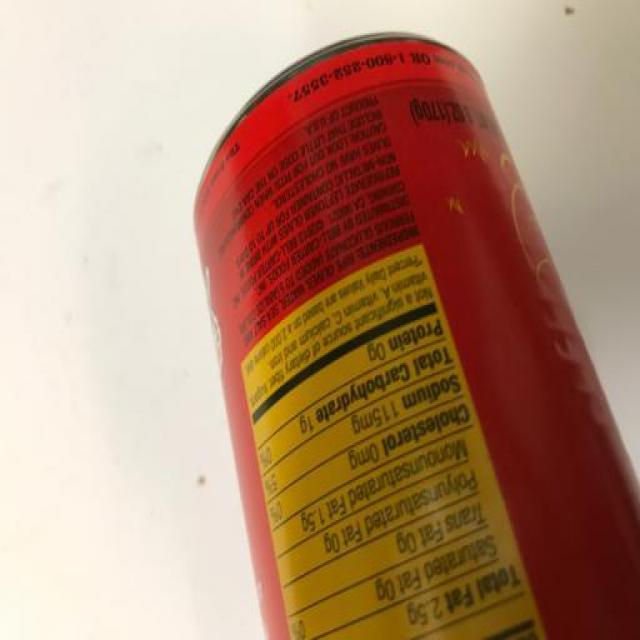metel: (177, 1, 640, 640)
